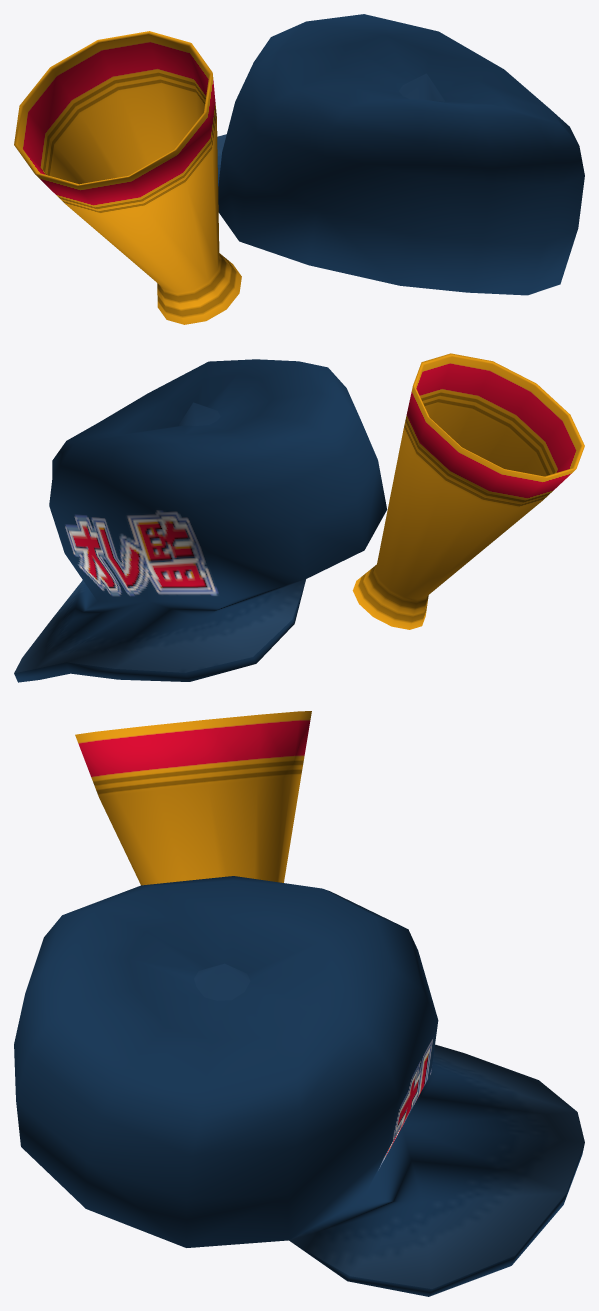
The model's file is orekan.ico.obj.
The picture shows the model from 3 angles, top to bottom: view 1: azimuth 30°, elevation 25°; view 2: azimuth 150°, elevation 25°; view 3: azimuth 270°, elevation 25°; orthographic projection. The views are drawn at different scales.
Bounding box in the file's own units: 4.33 × 2.64 × 3.5.
Materials: 1 (1 with a texture image).
